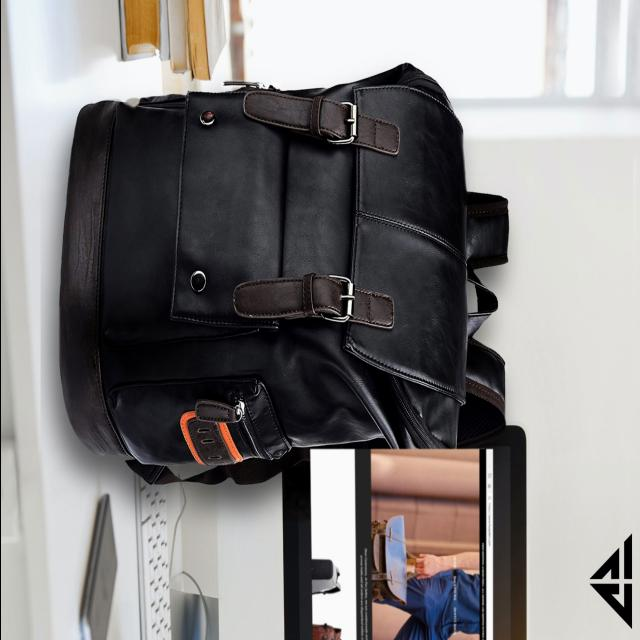backpack: (60, 63, 510, 489)
